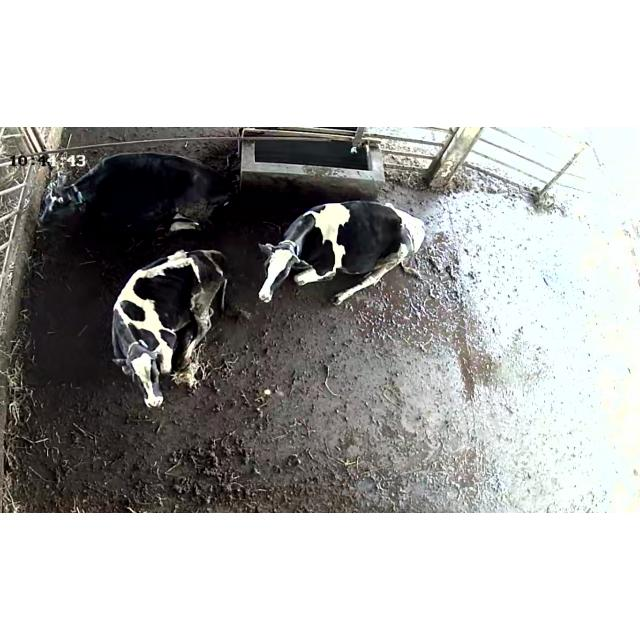lay: (111, 249, 228, 407), (258, 200, 425, 305), (38, 152, 237, 236)
